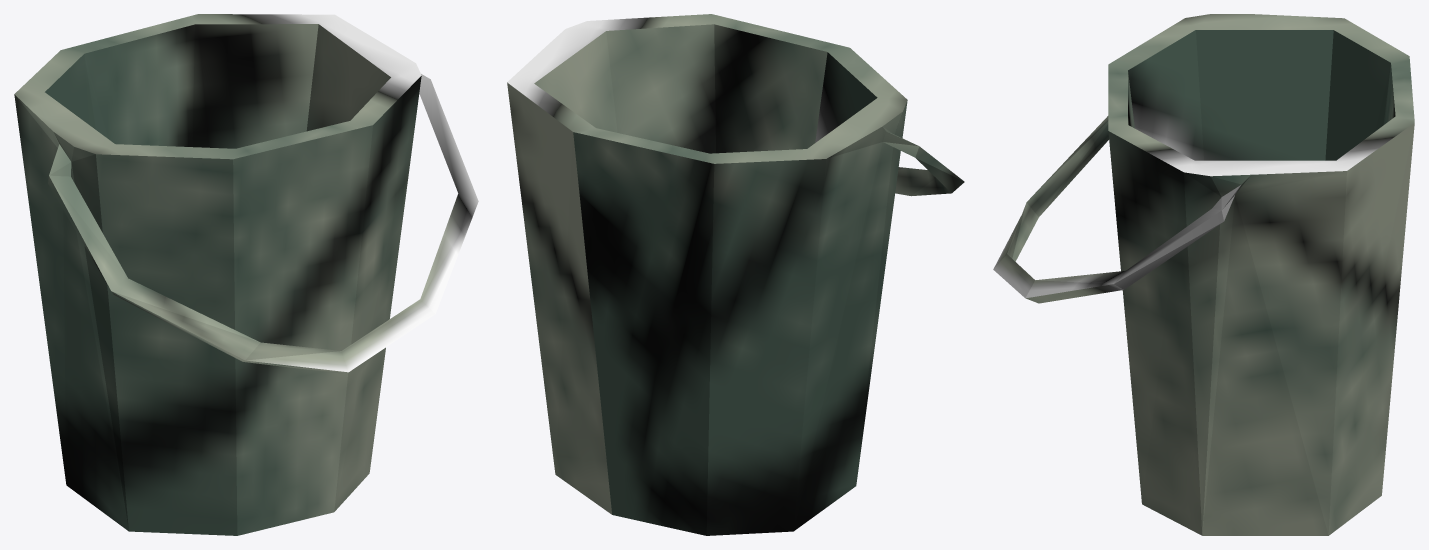
The model's file is Bucket.fbx.
3 renders of one model, left to right at view 1: azimuth 30°, elevation 25°; view 2: azimuth 150°, elevation 25°; view 3: azimuth 270°, elevation 25°, orthographic. The views are drawn at different scales.
Parts seen in each view (by area): view 1: Bucket; view 2: Bucket; view 3: Bucket.
Part boxes in pixels (x1,y1,x2,y2): Bucket: (14,14,478,535); Bucket: (507,14,964,535); Bucket: (993,14,1414,535).
Bounding box in the file's own units: 42.8 × 42.11 × 41.94.
